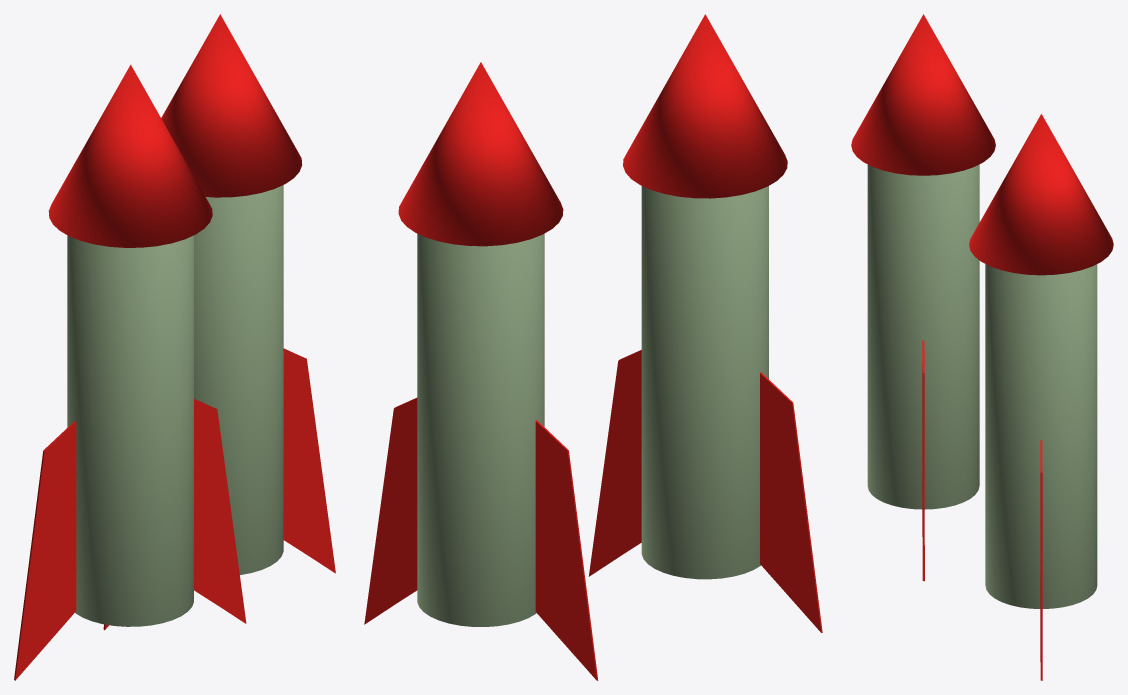
File: misil 2.fbx
3 renders of one model, left to right at view 1: azimuth 30°, elevation 25°; view 2: azimuth 150°, elevation 25°; view 3: azimuth 270°, elevation 25°, orthographic. The views are drawn at different scales.
Visible parts, largest first — view 1: Cylinder.051, Cylinder.052, Cone.006, Cone.007, Cube.026, Cube.027, Cube.017; view 2: Cylinder.051, Cylinder.052, Cone.006, Cone.007, Cube.028, Cube.026, Cube.027, Cube.017; view 3: Cylinder.052, Cylinder.051, Cone.006, Cone.007, Cube.017, Cube.027.
Boxes of the visible parts, x1=… form: Cylinder.051: x1=67, y1=235, x2=193, y2=626; Cylinder.052: x1=194, y1=185, x2=283, y2=574; Cone.006: x1=48, y1=64, x2=212, y2=247; Cone.007: x1=161, y1=14, x2=302, y2=197; Cube.026: x1=14, y1=421, x2=76, y2=680; Cube.027: x1=283, y1=348, x2=335, y2=573; Cube.017: x1=194, y1=398, x2=246, y2=623; Cylinder.051: x1=641, y1=186, x2=768, y2=579; Cylinder.052: x1=417, y1=233, x2=544, y2=626; Cone.006: x1=623, y1=14, x2=787, y2=198; Cone.007: x1=398, y1=62, x2=563, y2=246; Cube.028: x1=535, y1=420, x2=598, y2=680; Cube.026: x1=760, y1=372, x2=822, y2=632; Cube.027: x1=364, y1=397, x2=417, y2=624; Cube.017: x1=588, y1=350, x2=641, y2=576; Cylinder.052: x1=985, y1=264, x2=1097, y2=608; Cylinder.051: x1=867, y1=164, x2=979, y2=509; Cone.006: x1=851, y1=14, x2=995, y2=175; Cone.007: x1=969, y1=114, x2=1113, y2=275; Cube.017: x1=922, y1=340, x2=924, y2=581; Cube.027: x1=1040, y1=440, x2=1042, y2=680.
Size of the model in its own units: 162 by 249 by 108.
